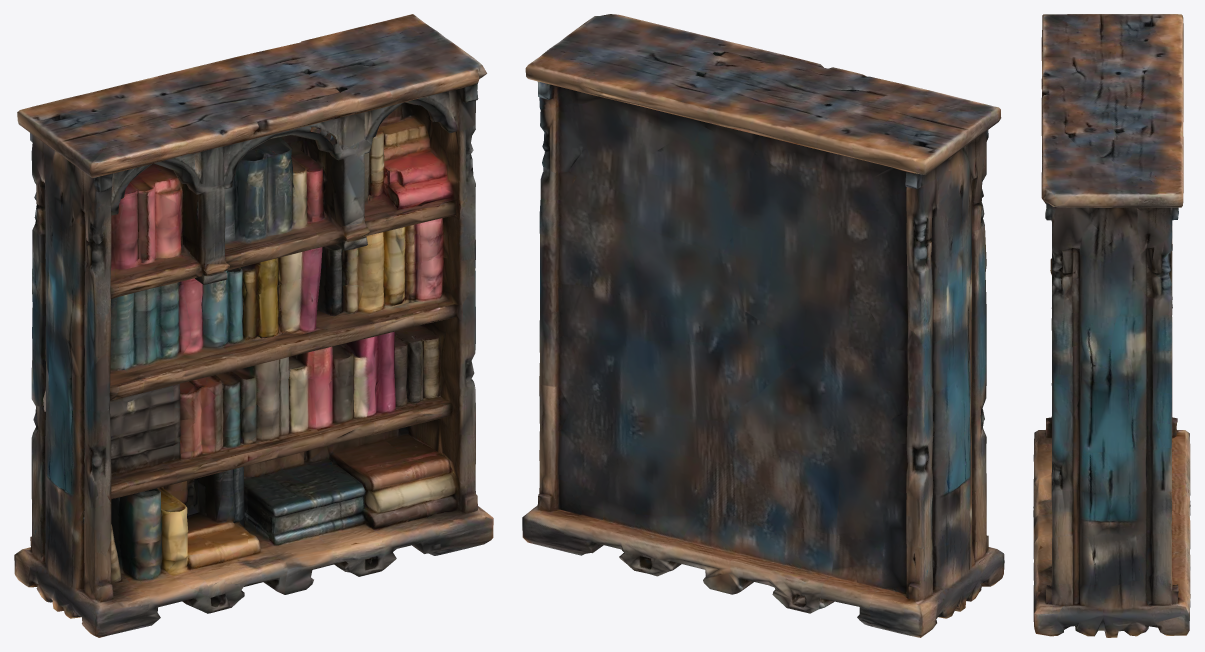
File: lib_bookshelf.mid.glb
3 views of the same model, side by side, from view 1: azimuth 30°, elevation 25°; view 2: azimuth 150°, elevation 25°; view 3: azimuth 270°, elevation 25° (orthographic). The views are drawn at different scales.
Size of the model in its own units: 1.68 by 1.9 by 0.6116.
Materials: 1 (1 with a texture image).
